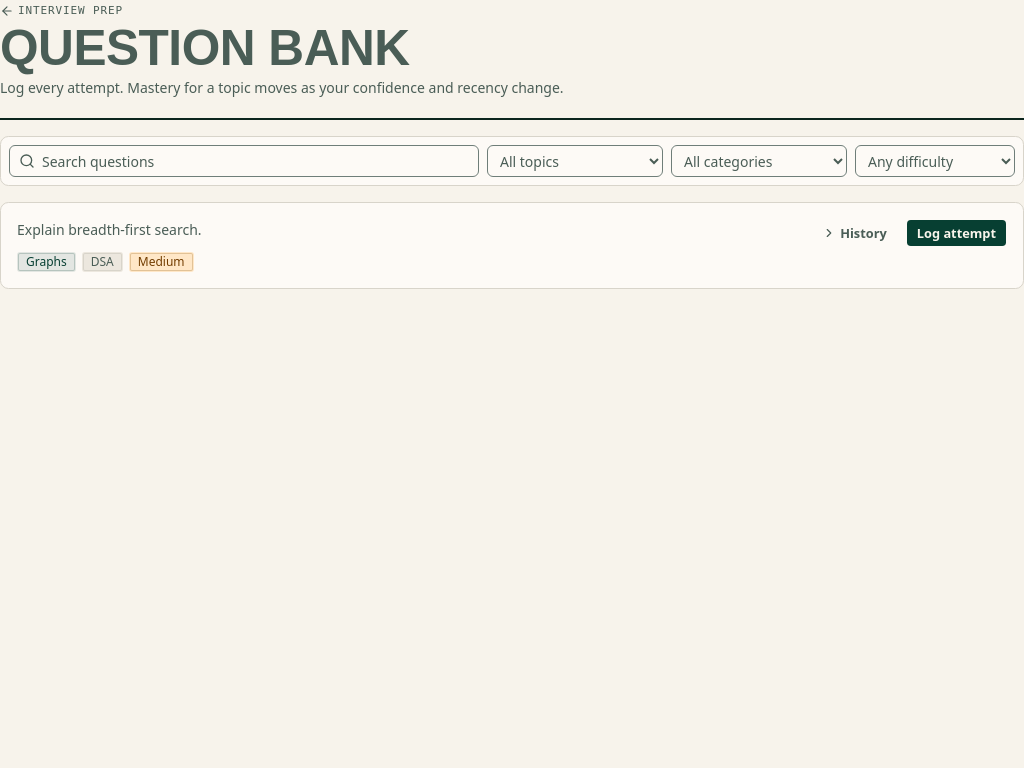
Test: QuestionBankPage › logs an attempt and reports the updated topic mastery
Click the button "Log attempt": (956, 233) [906,219,1007,247]
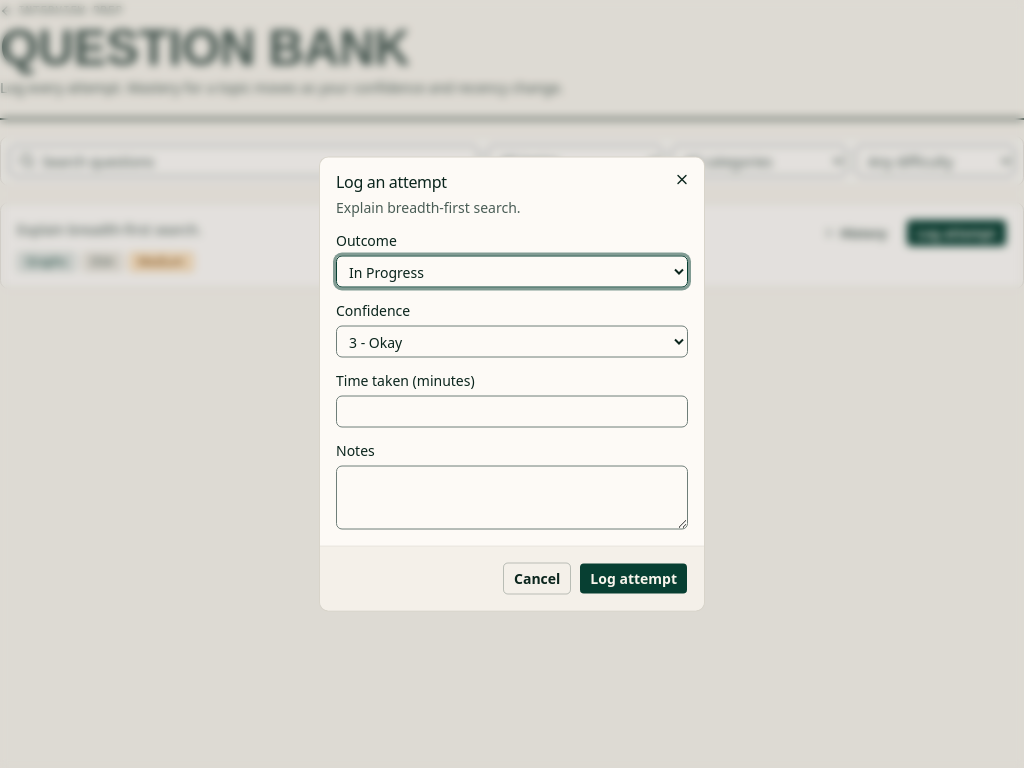
Select "5 - Solid" in the dropdown labelled "Confidence": (512, 342) [336,326,688,358]
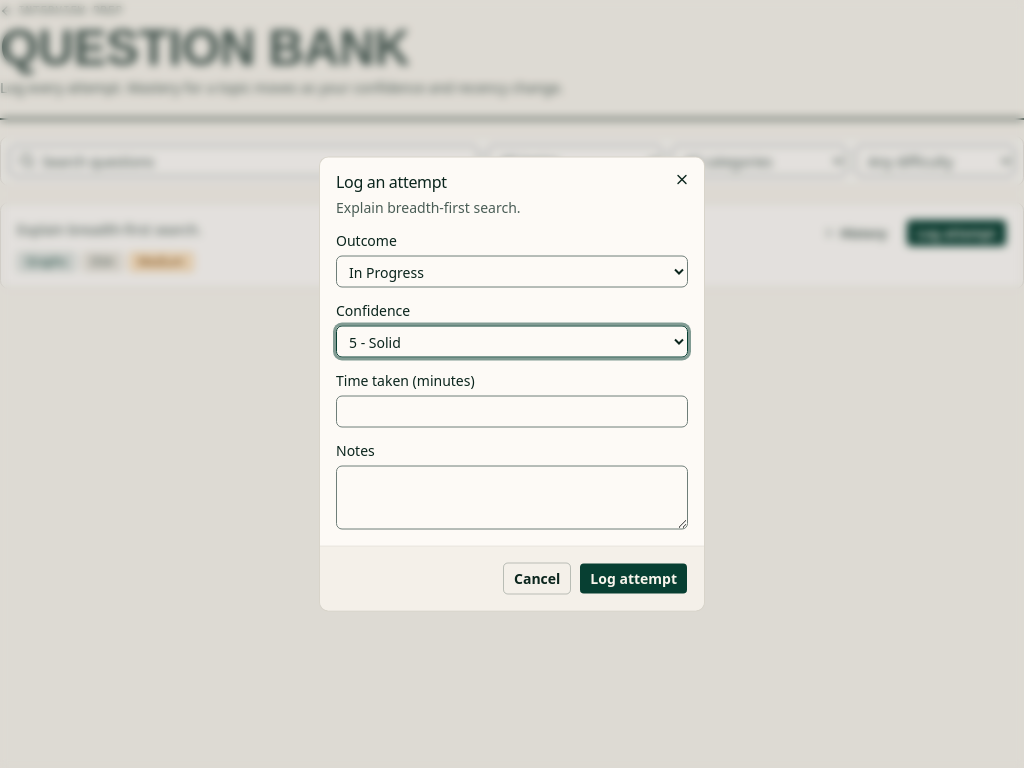
Click the button "Log attempt": (634, 578) [579,562,688,594]
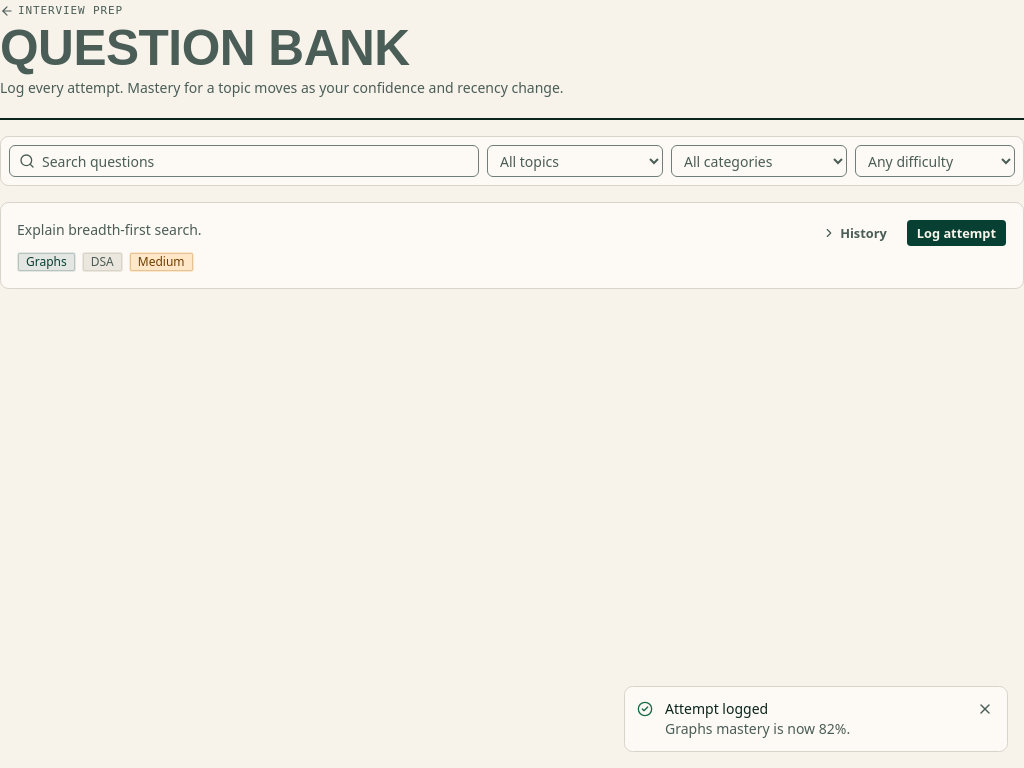
Now the text "Graphs mastery is now 82%." is shown, box [665,719,850,738]
